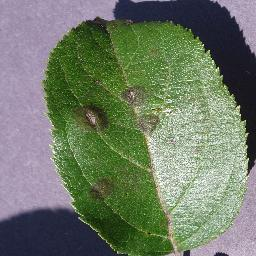apple healthy: (41, 14, 251, 255)
